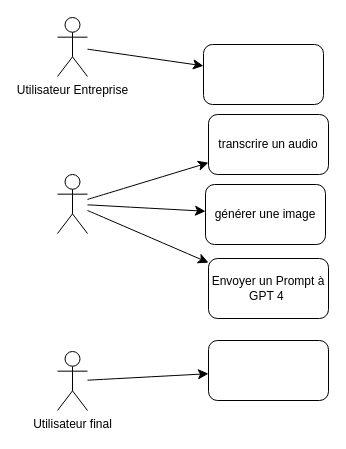
Image size: 346x449. Some labels were removed from this diagram. The shapes that lost their labels are listed below. From the top down, each one's centre as x and y in pixels, then its label:
At point 263,74: "Collecter des données".
At point 72,204: "Développeur".
At point 268,370: "Utiliser l'API openAI".
